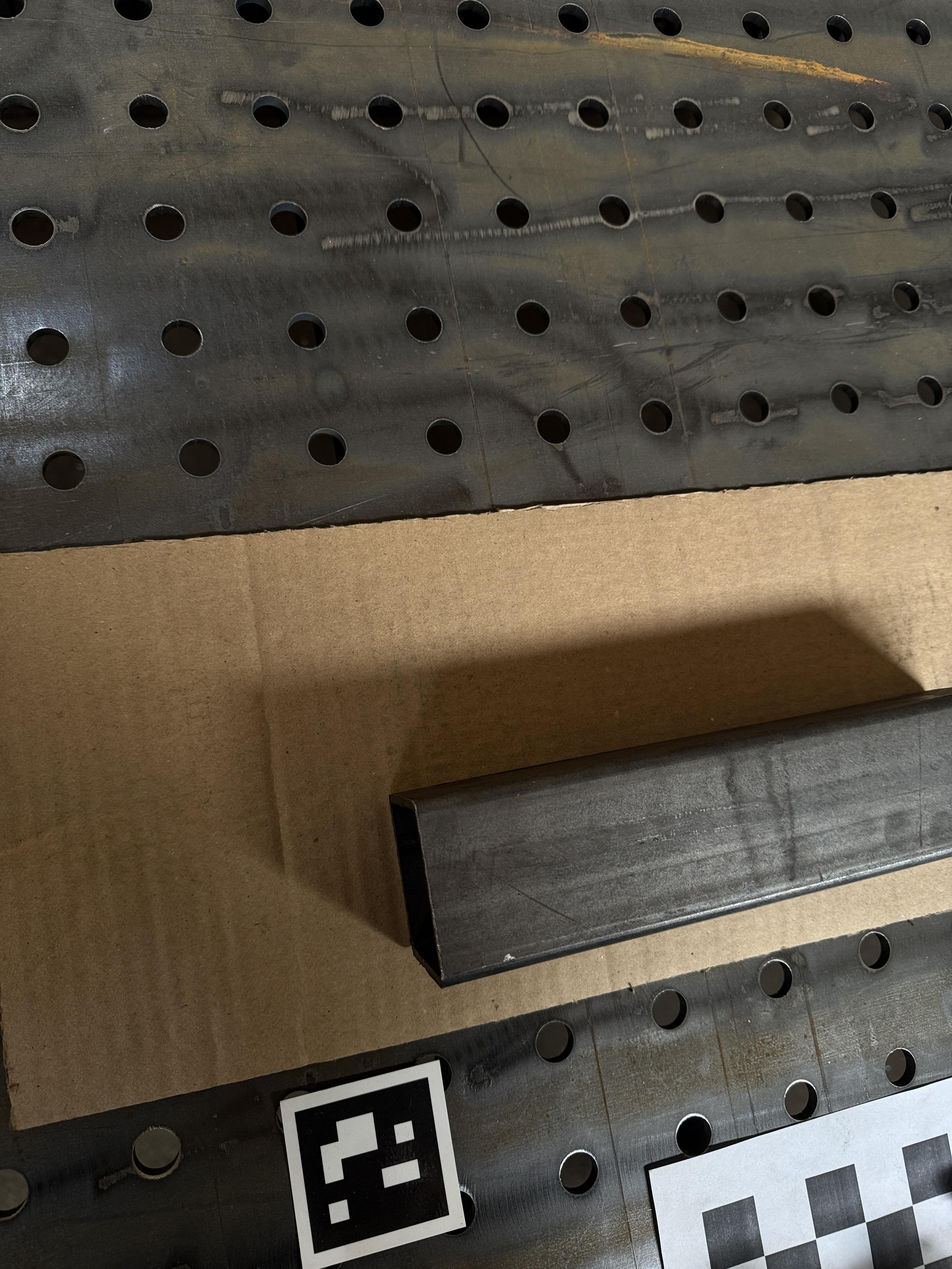detail: (390, 687, 952, 990)
